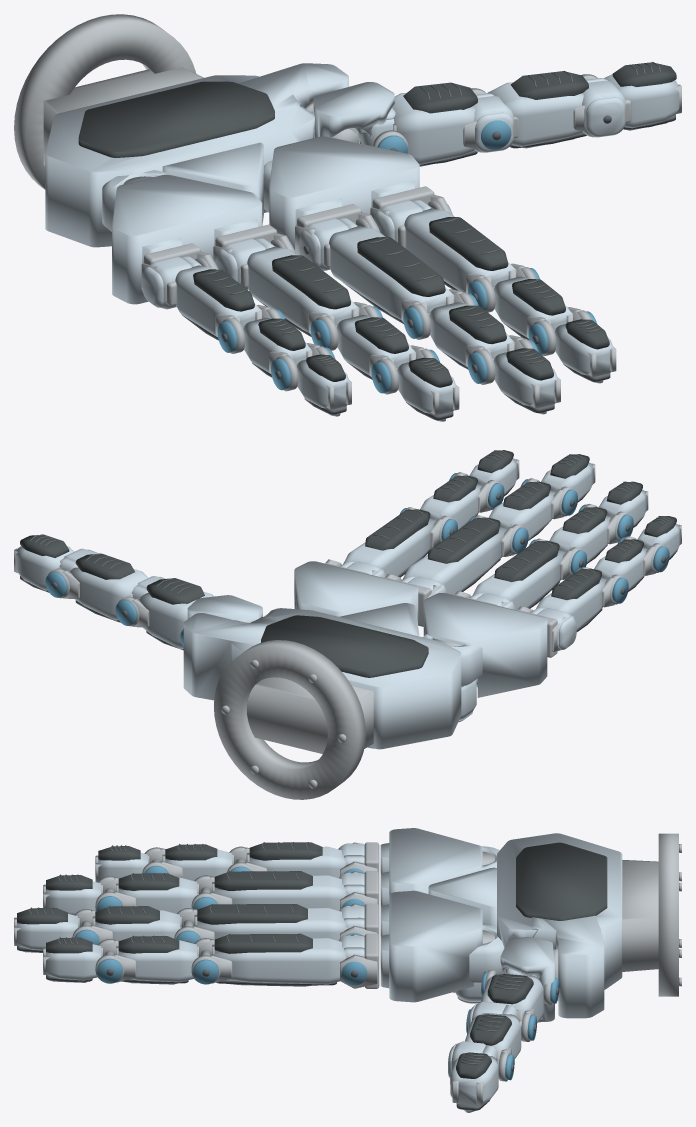
The model's file is lyra10.glb.
The picture shows the model from 3 angles, top to bottom: view 1: azimuth 30°, elevation 25°; view 2: azimuth 150°, elevation 25°; view 3: azimuth 270°, elevation 25°; orthographic projection. The views are drawn at different scales.
Parts seen in each view (by area): view 1: visual__central_palm__0, visual__central_palm__1, visual__palm_ulnar_fan_link__1, visual__central_palm__3, visual__palm_radial_fan_link__1, visual__thumb_proximal__0, visual__thumb_metacarpal__0, visual__middle_proximal__0, visual__thumb_oppose_link__1, visual__ring_proximal__0, visual__index_proximal__0, visual__middle_proximal__4 (+42 smaller); view 2: visual__central_palm__1, visual__central_palm__0, visual__palm_ulnar_fan_link__1, visual__central_palm__3, visual__palm_radial_fan_link__1, visual__middle_proximal__0, visual__thumb_proximal__0, visual__ring_proximal__0, visual__index_proximal__0, visual__thumb_metacarpal__0, visual__middle_proximal__4, visual__index_proximal__4 (+25 smaller); view 3: visual__central_palm__0, visual__palm_radial_fan_link__1, visual__central_palm__1, visual__central_palm__3, visual__palm_ulnar_fan_link__1, visual__index_proximal__0, visual__ring_proximal__0, visual__middle_proximal__0, visual__thumb_oppose_link__1, visual__middle_proximal__4, visual__index_middle__0, visual__index_proximal__4 (+42 smaller).
Part boxes in pixels (x1,y1,x2,y2): visual__central_palm__0: (45, 63, 348, 247); visual__central_palm__1: (14, 14, 313, 189); visual__palm_ulnar_fan_link__1: (112, 174, 262, 304); visual__central_palm__3: (78, 81, 274, 157); visual__palm_radial_fan_link__1: (269, 136, 419, 250); visual__thumb_proximal__0: (487, 78, 625, 148); visual__thumb_metacarpal__0: (392, 93, 513, 166); visual__middle_proximal__0: (329, 226, 454, 320); visual__thumb_oppose_link__1: (313, 82, 395, 146); visual__ring_proximal__0: (247, 246, 359, 332); visual__index_proximal__0: (404, 208, 516, 292); visual__middle_proximal__4: (357, 237, 445, 296); visual__central_palm__1: (214, 640, 373, 799); visual__central_palm__0: (183, 603, 482, 749); visual__palm_ulnar_fan_link__1: (423, 593, 547, 697); visual__central_palm__3: (261, 615, 428, 677); visual__palm_radial_fan_link__1: (294, 561, 418, 624); visual__middle_proximal__0: (402, 527, 506, 594); visual__thumb_proximal__0: (59, 548, 148, 620); visual__ring_proximal__0: (472, 550, 564, 610); visual__index_proximal__0: (343, 518, 435, 576); visual__thumb_metacarpal__0: (131, 576, 213, 649); visual__middle_proximal__4: (428, 517, 500, 563); visual__index_proximal__4: (365, 509, 430, 550); visual__central_palm__0: (428, 833, 622, 1018); visual__palm_radial_fan_link__1: (380, 890, 482, 1002); visual__central_palm__1: (453, 833, 681, 996); visual__central_palm__3: (516, 842, 607, 920); visual__palm_ulnar_fan_link__1: (380, 828, 482, 906); visual__index_proximal__0: (214, 938, 345, 986); visual__ring_proximal__0: (214, 875, 345, 910); visual__middle_proximal__0: (197, 908, 345, 940); visual__thumb_oppose_link__1: (500, 937, 554, 1022); visual__middle_proximal__4: (197, 904, 307, 924); visual__index_middle__0: (118, 940, 197, 984); visual__index_proximal__4: (214, 933, 312, 953).
Size of the model in its own units: 0.1944 by 0.056 by 0.2295.
